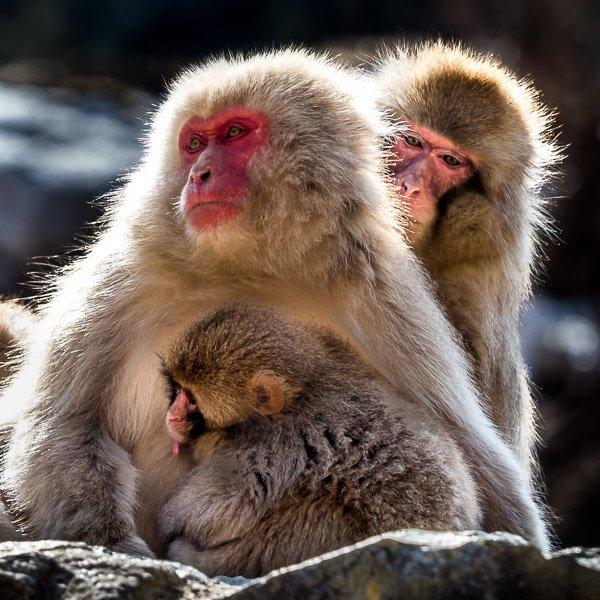monkey: (5, 41, 566, 578)
